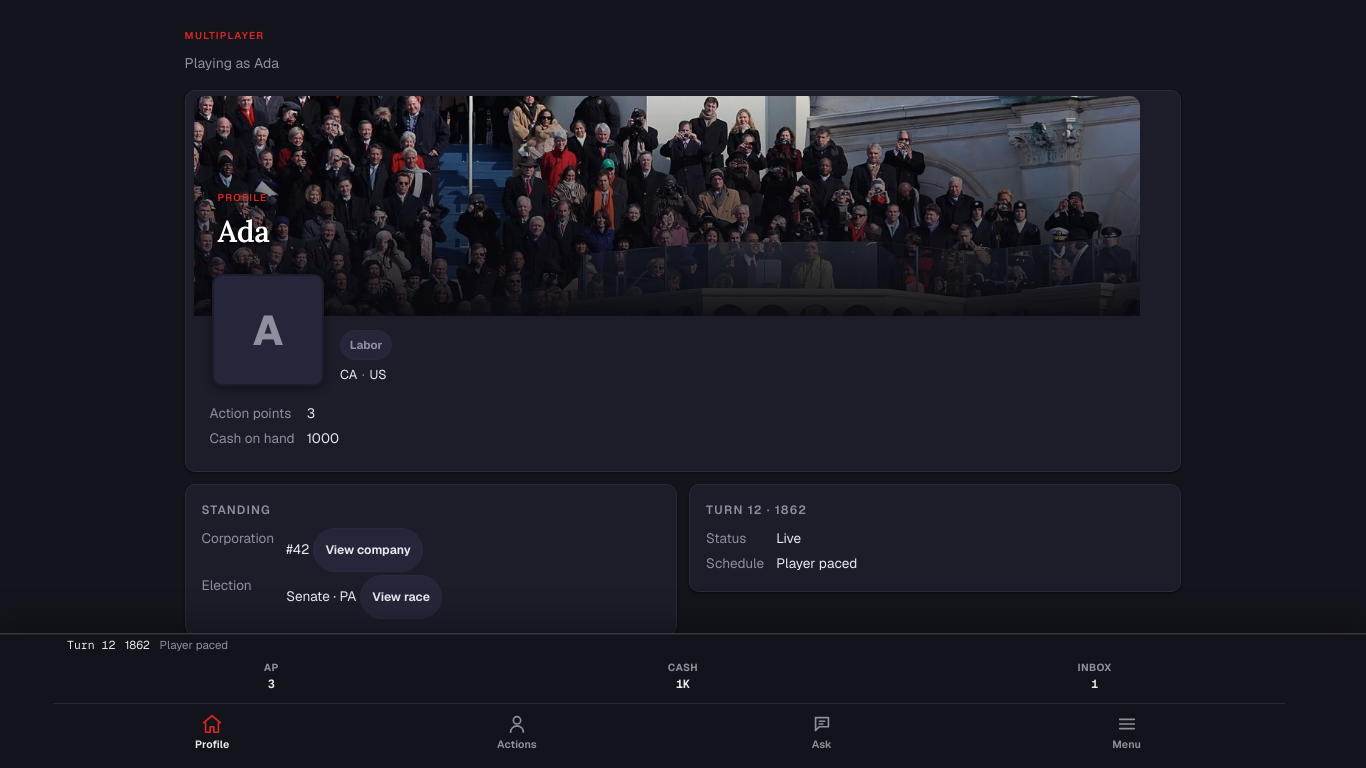
Test: MP drill-in exclusivity at 1280px (#510) › opening a second drill-in closes the first; Back leaves no detail open
Click the button "View race": (401, 597) [360,575,442,619]
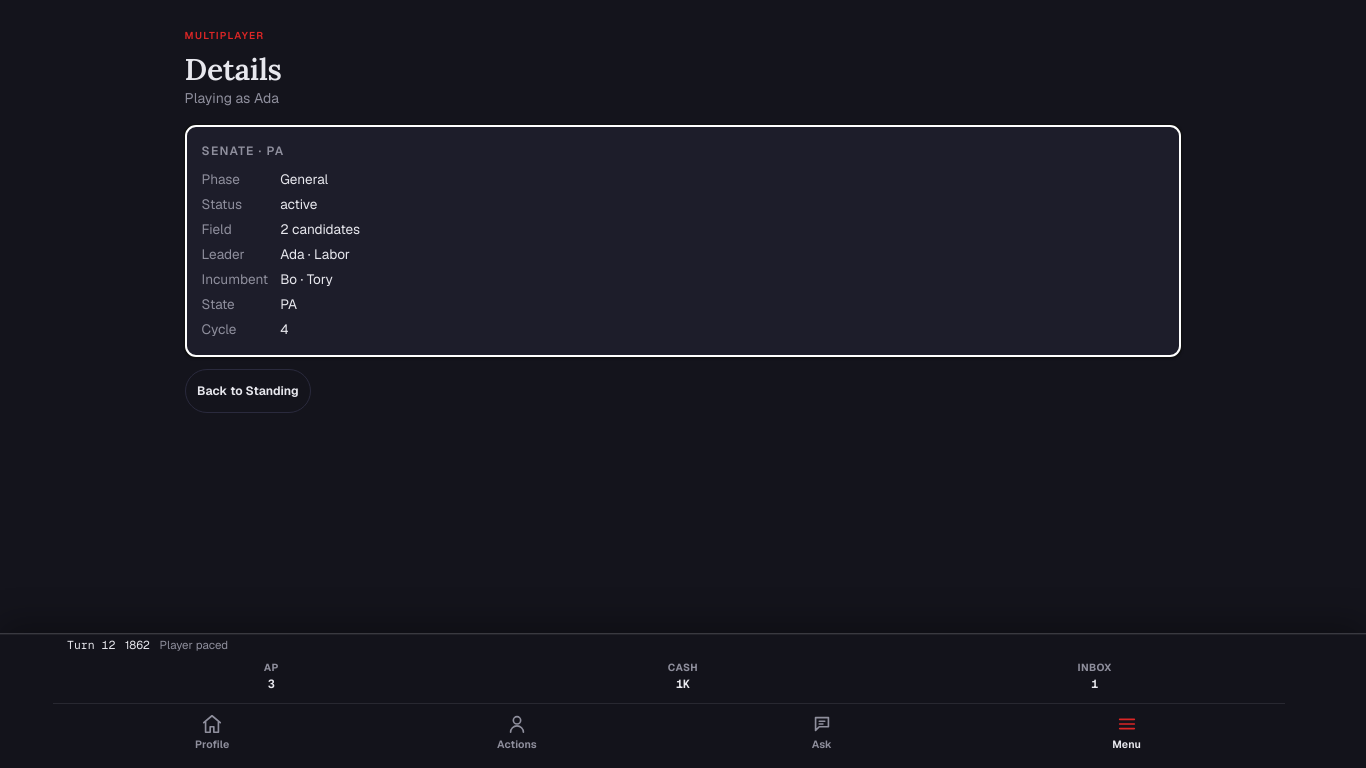
Result: the element named "Election detail" is shown at [185,125,1181,358]
Click the button "Menu": (1127, 734) [974,706,1279,762]
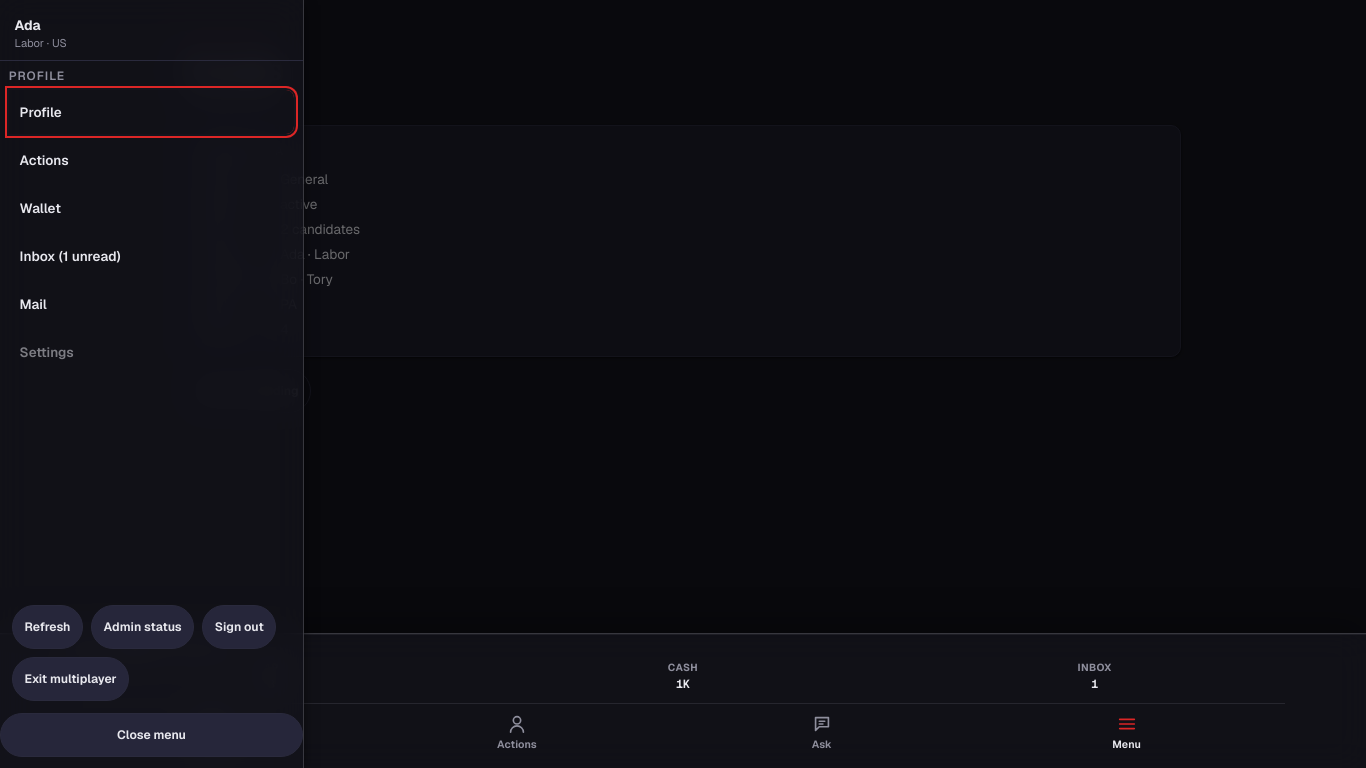
Click the button "Profile": (41, 112) [9,90,294,134]
(page scrolled)
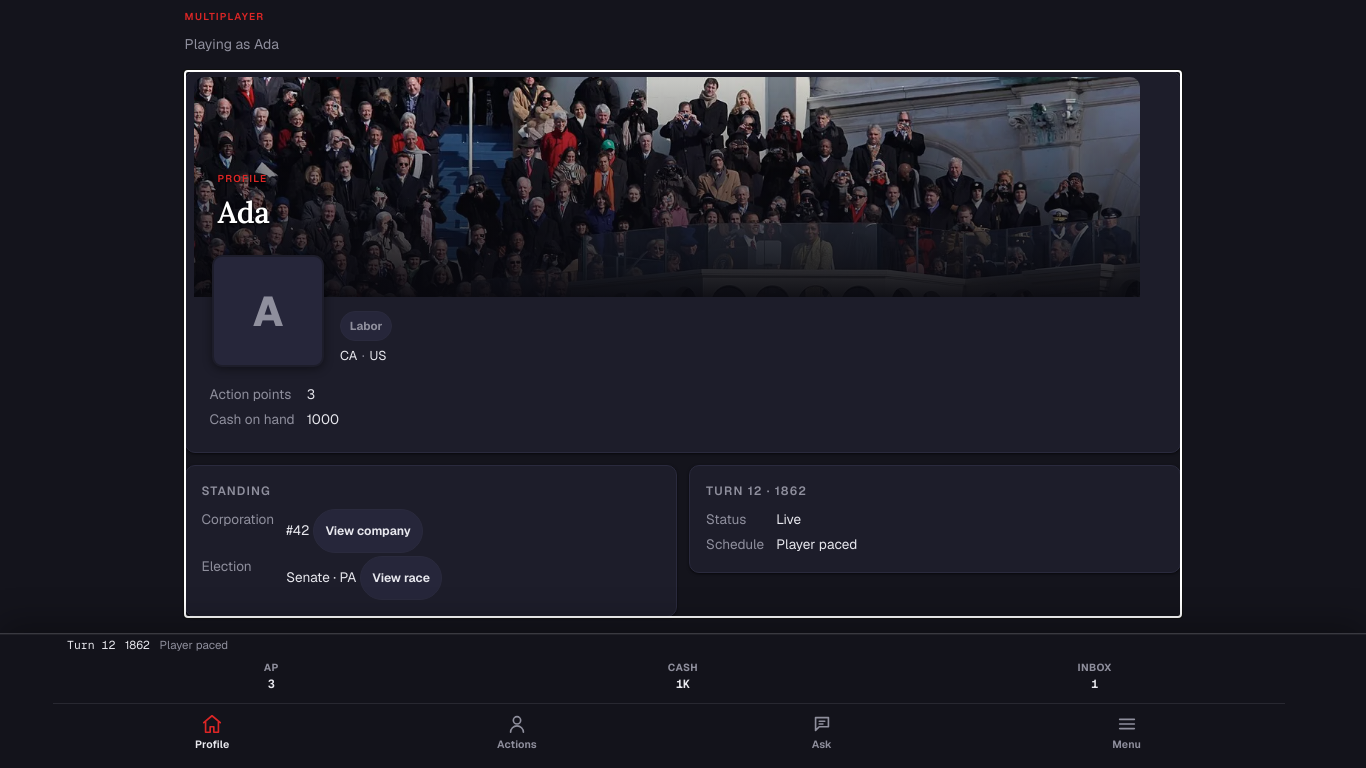
Click the button "View company": (368, 531) [313,509,423,553]
(page scrolled)
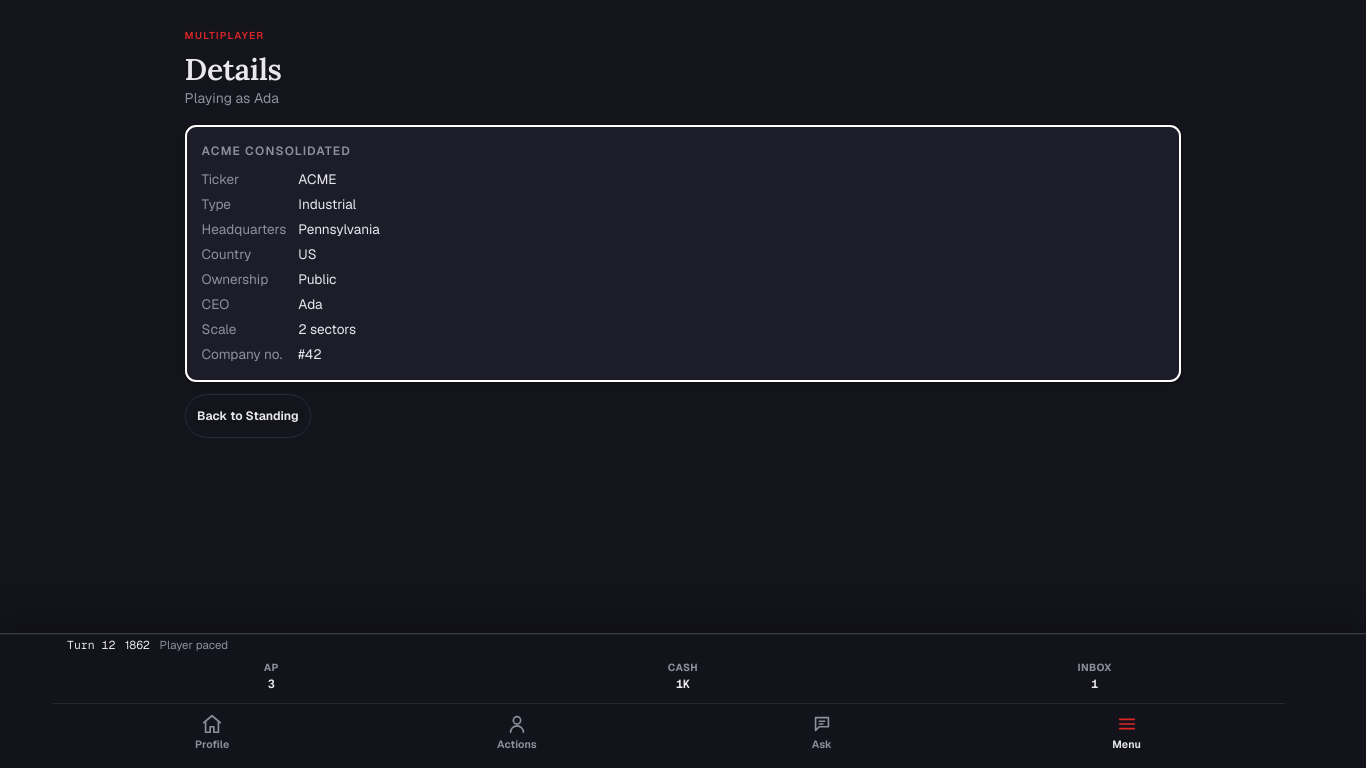
Result: the element named "Corporation detail" is shown at [185,125,1181,382]
Result: the number of buttons "Back to Standing" is 1
Click the button "Back to Standing": (248, 416) [185,394,311,438]
(page scrolled)
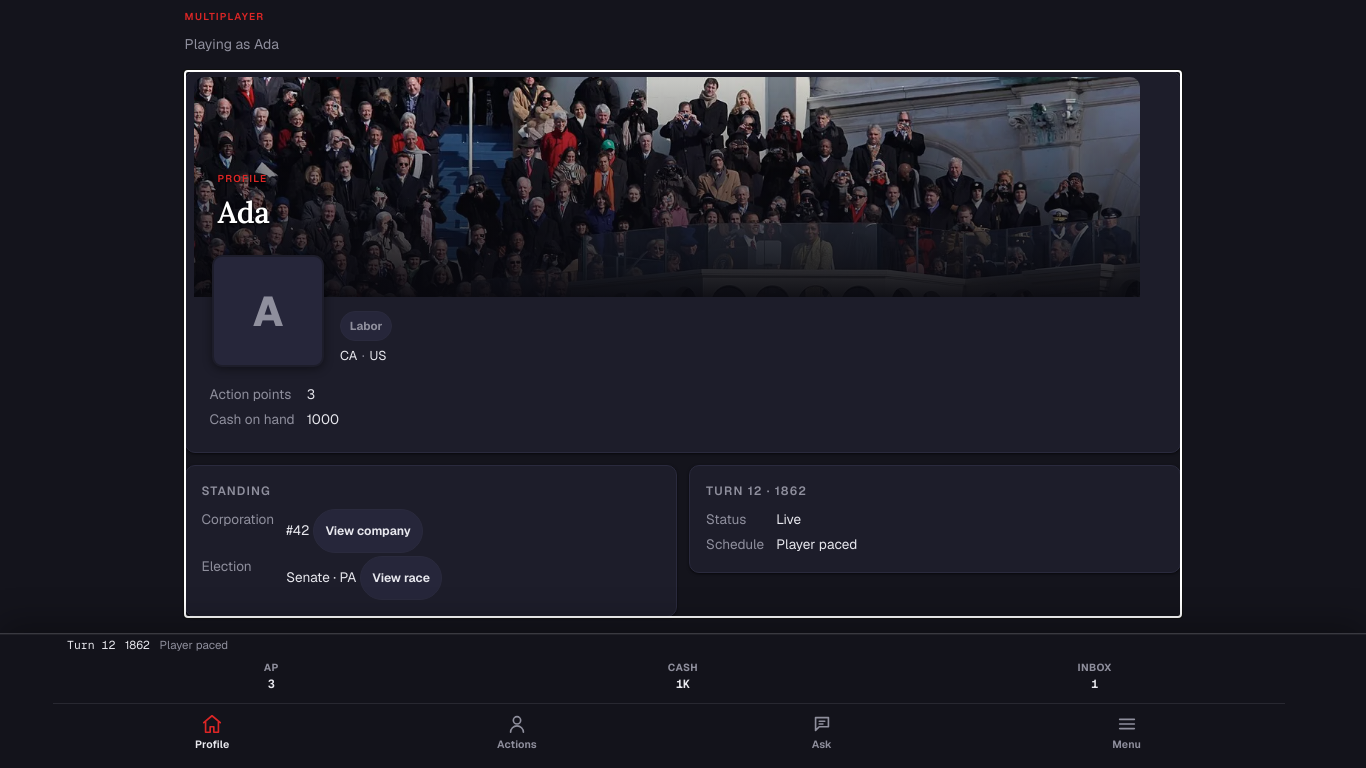
Result: the element "Standing" is shown at [185,465,677,617]
